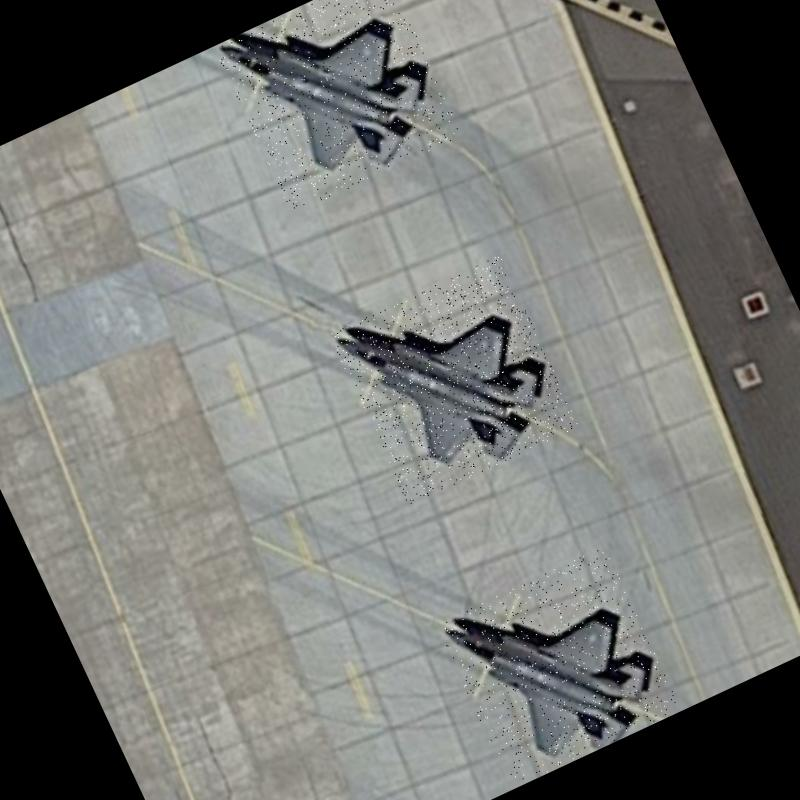A15: (328, 254, 580, 506), (435, 545, 681, 788), (213, 0, 462, 214)
